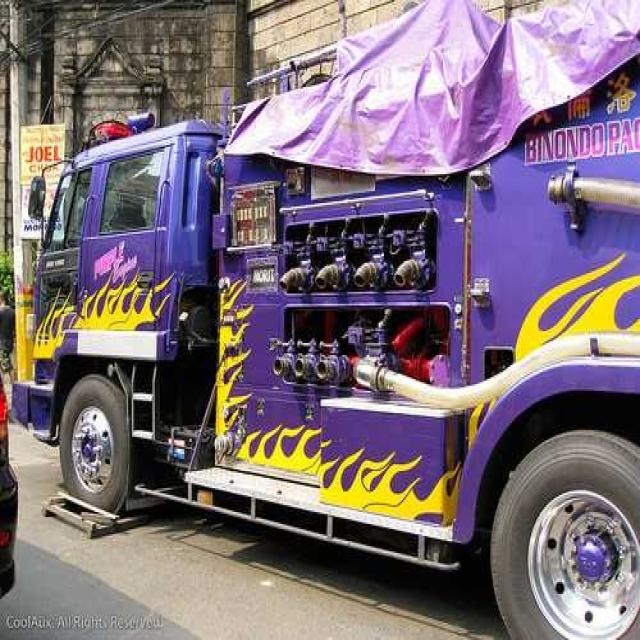ambulance: (19, 125, 640, 594)
